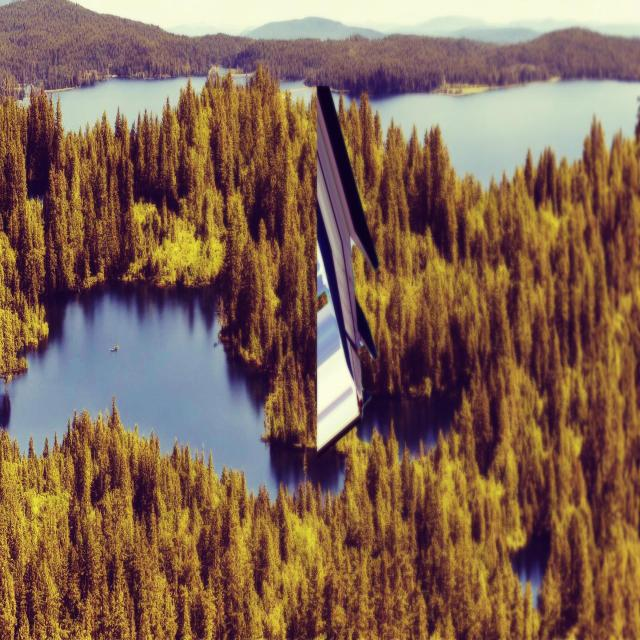airplane: (314, 84, 380, 455)
